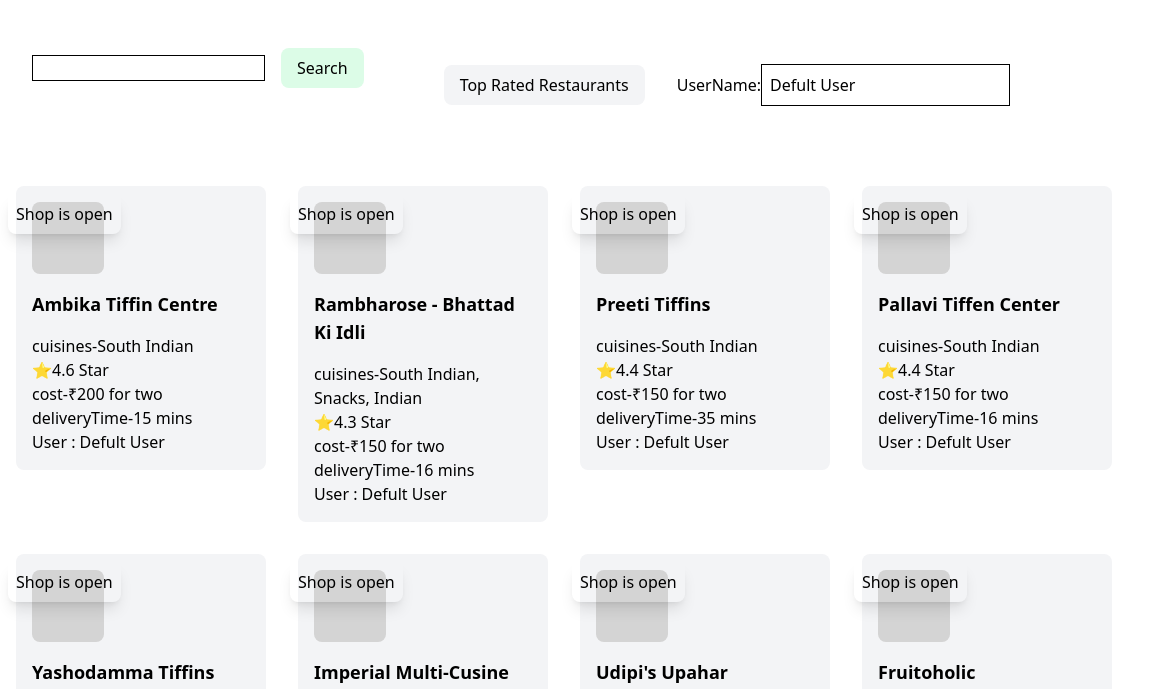
it: Should search res list pizza text input
Type "Tiffin" into the field with test id "searchInput" at (148, 68), box [32,55,265,81]
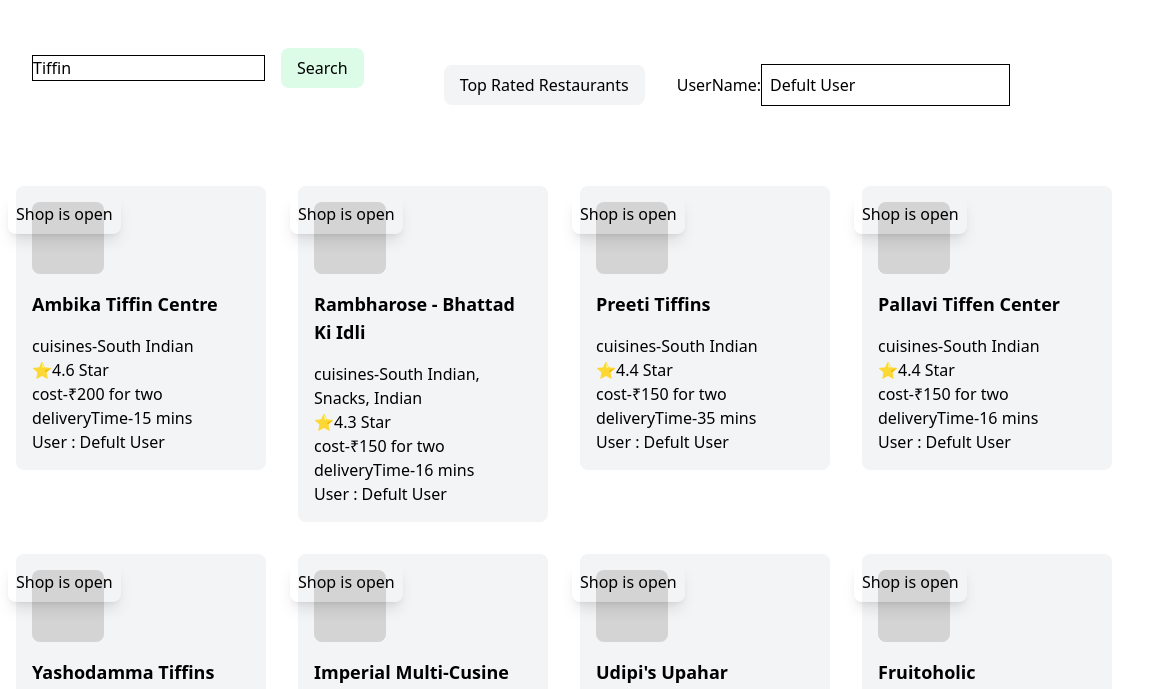
Click the button "Search" at (322, 68), box [281,48,364,88]
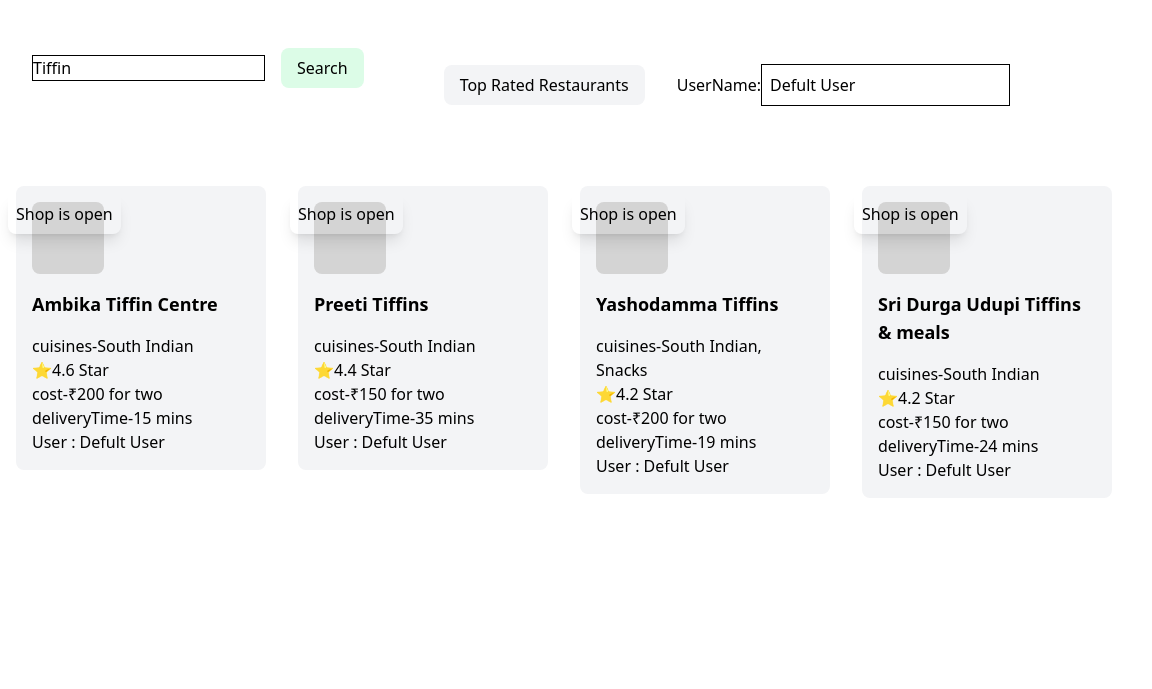
Expected: the number of elements with test id "rescard" is 4, [0,186,282,470]; [282,186,564,470]; [564,186,846,494]; [846,186,1128,498]
